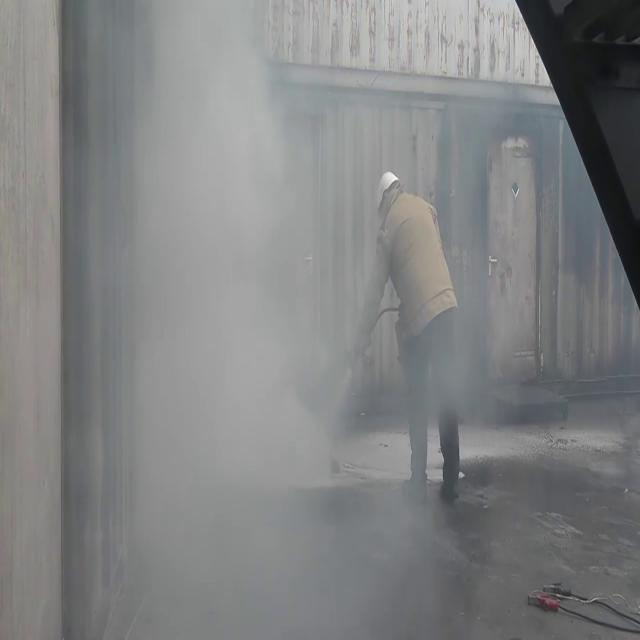Smoke: (0, 3, 627, 640)
